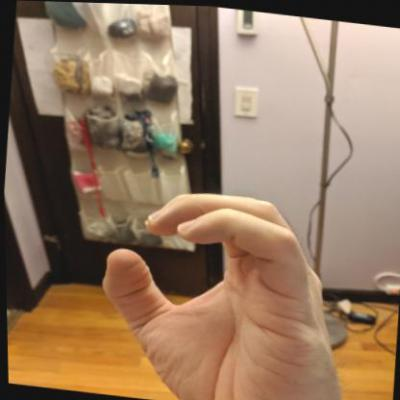hand: (82, 174, 365, 399)
